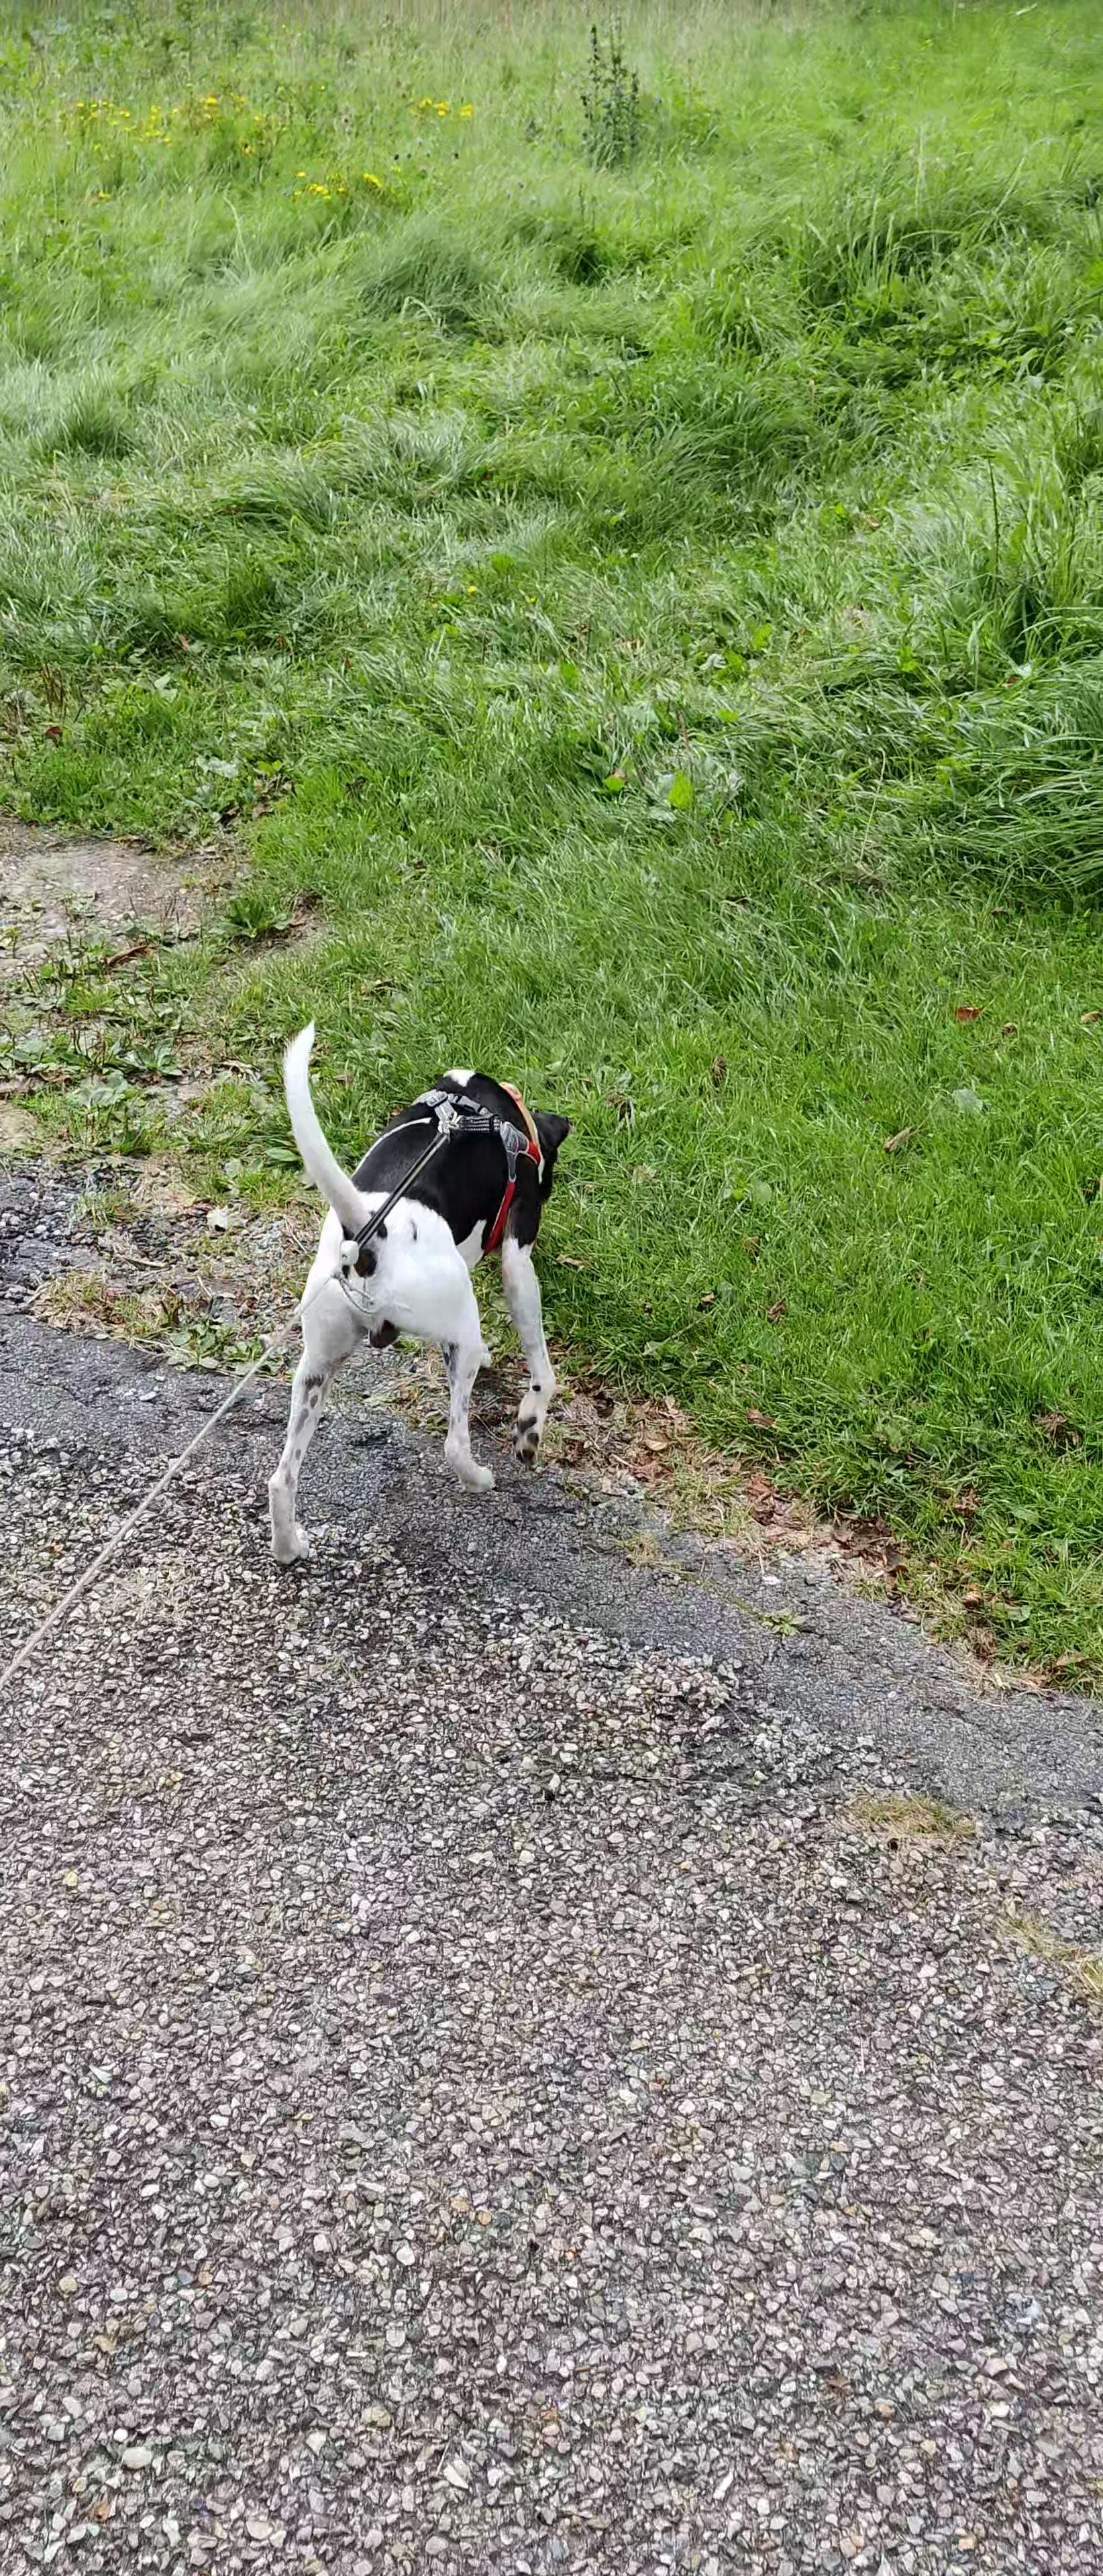Dog: (225, 1007, 620, 1580)
